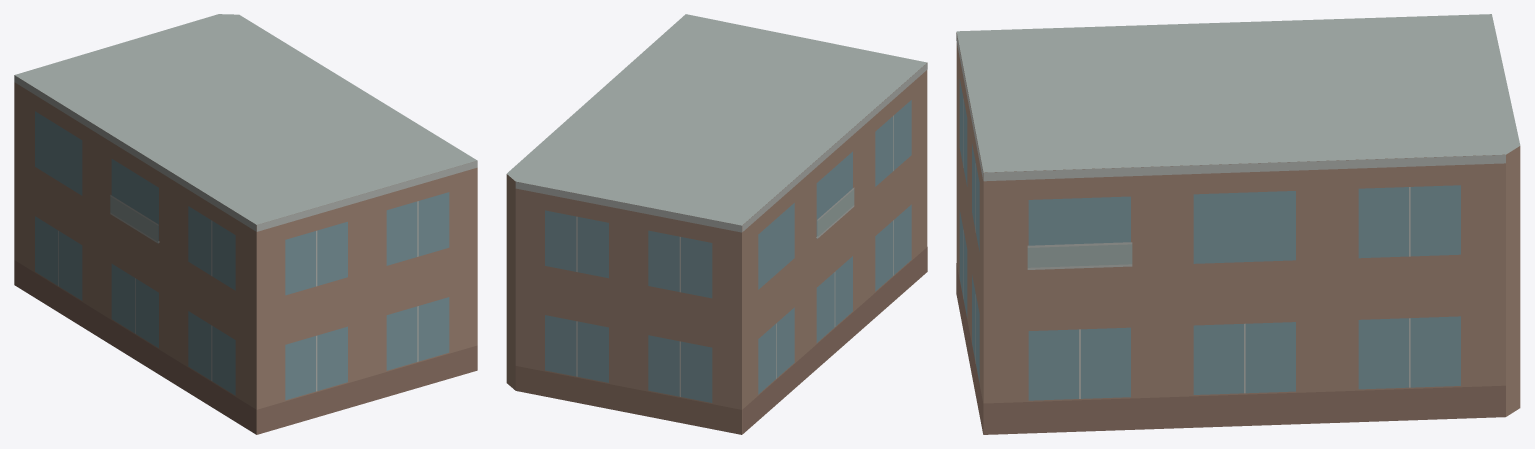
The model's file is survey-upis-32625757.glb.
The picture shows the model from 3 angles, left to right: view 1: azimuth 30°, elevation 25°; view 2: azimuth 150°, elevation 25°; view 3: azimuth 270°, elevation 25°; orthographic projection. The views are drawn at different scales.
Visible parts, largest first — view 1: survey-upis-32625757.tmp; view 2: survey-upis-32625757.tmp; view 3: survey-upis-32625757.tmp.
Boxes of the visible parts, box(x1,y1,x2,y2) form: survey-upis-32625757.tmp: box(14, 14, 477, 434); survey-upis-32625757.tmp: box(506, 14, 927, 434); survey-upis-32625757.tmp: box(956, 14, 1520, 434).
Size of the model in its own units: 9.47 by 7.3 by 14.23.
